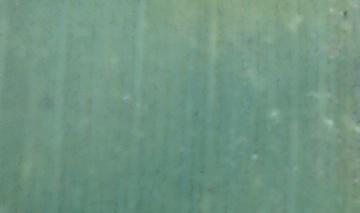tarspot: (342, 9, 347, 17)
